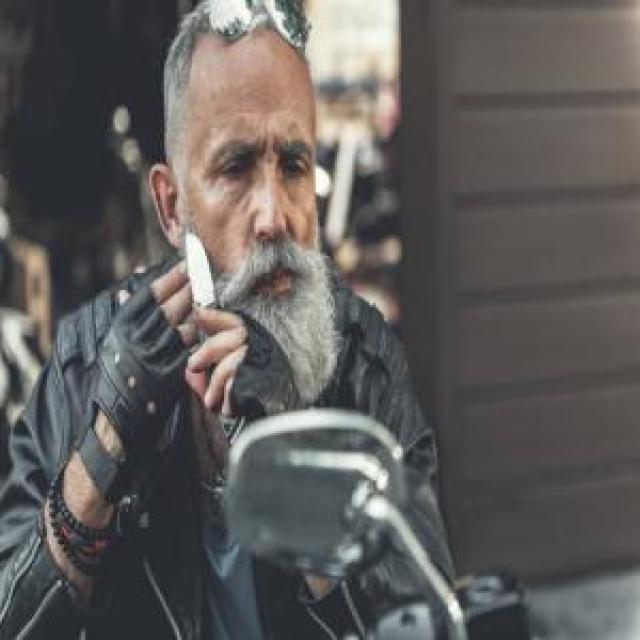knife: (186, 228, 242, 450)
